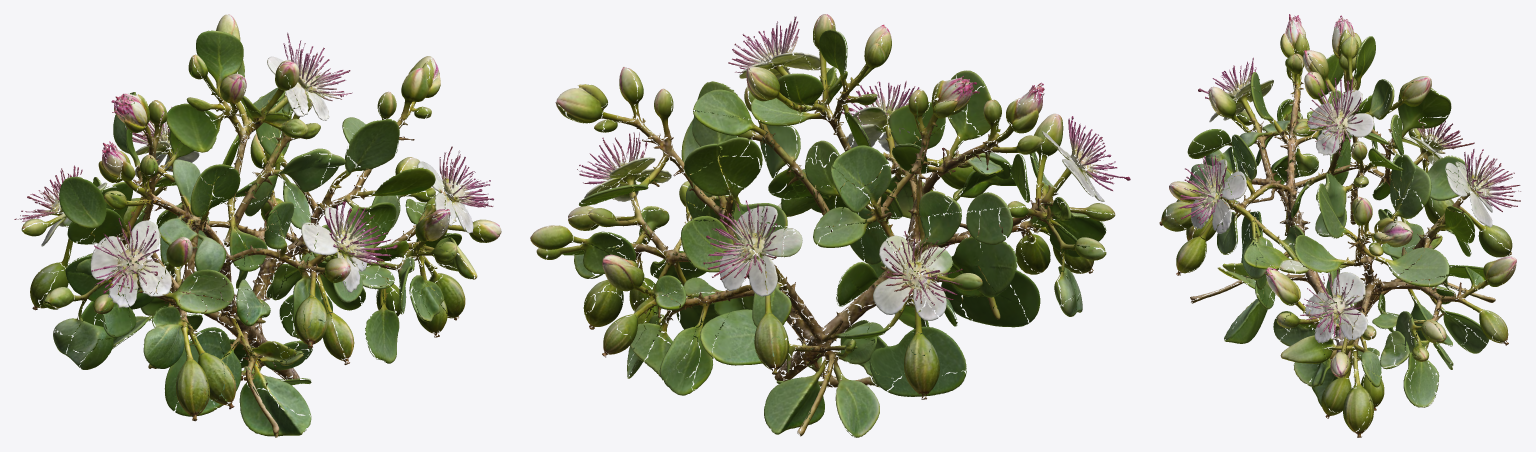
The model's file is qabbar.glb.
3 renders of one model, left to right at view 1: azimuth 30°, elevation 25°; view 2: azimuth 150°, elevation 25°; view 3: azimuth 270°, elevation 25°, orthographic. The views are drawn at different scales.
Visible parts, largest first — view 1: tripo_node_78ef2511-4b46-4190-959a-5d070c3fc11a; view 2: tripo_node_78ef2511-4b46-4190-959a-5d070c3fc11a; view 3: tripo_node_78ef2511-4b46-4190-959a-5d070c3fc11a.
Part boxes in pixels (box(x1,y1,x2,y2)): tripo_node_78ef2511-4b46-4190-959a-5d070c3fc11a: box(14, 14, 501, 437); tripo_node_78ef2511-4b46-4190-959a-5d070c3fc11a: box(530, 14, 1130, 437); tripo_node_78ef2511-4b46-4190-959a-5d070c3fc11a: box(1159, 14, 1520, 437).
Size of the model in its own units: 0.9789 by 0.6917 by 0.7309.
Materials: 1 (1 with a texture image).
